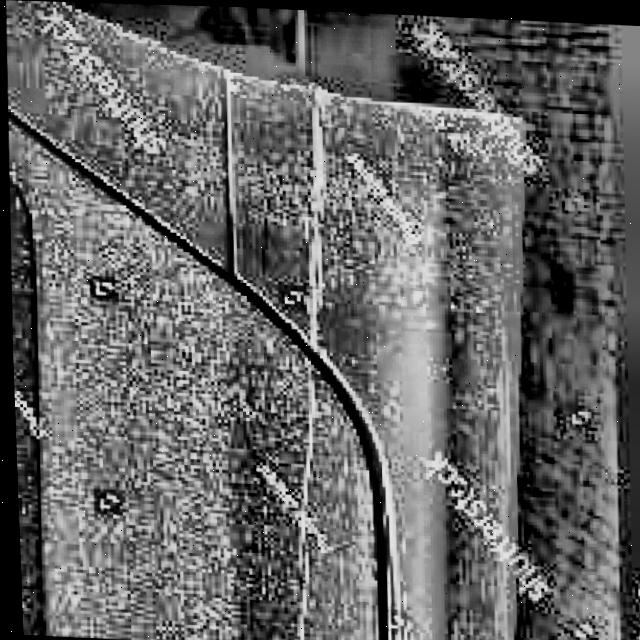door_scratch: (262, 86, 379, 640)
